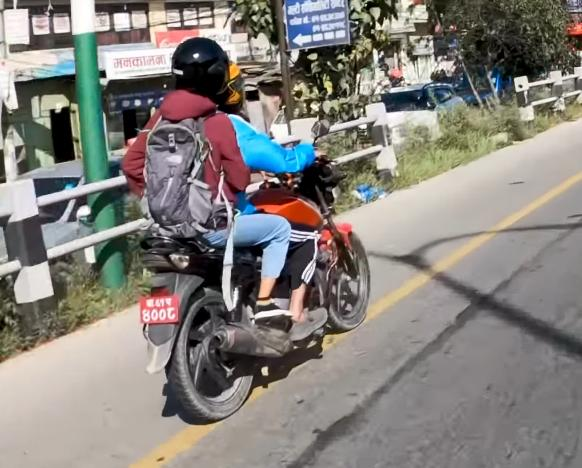bike: (127, 119, 378, 431)
